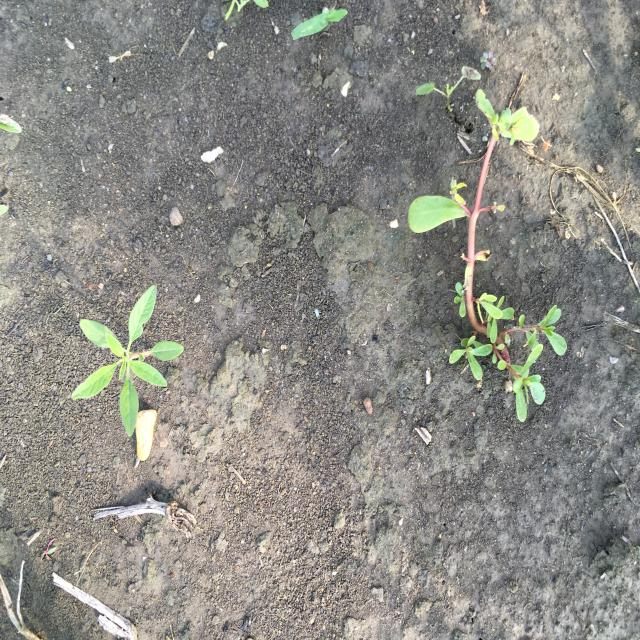Purslane: (407, 87, 568, 424)
Waterhemp: (70, 283, 186, 438)
